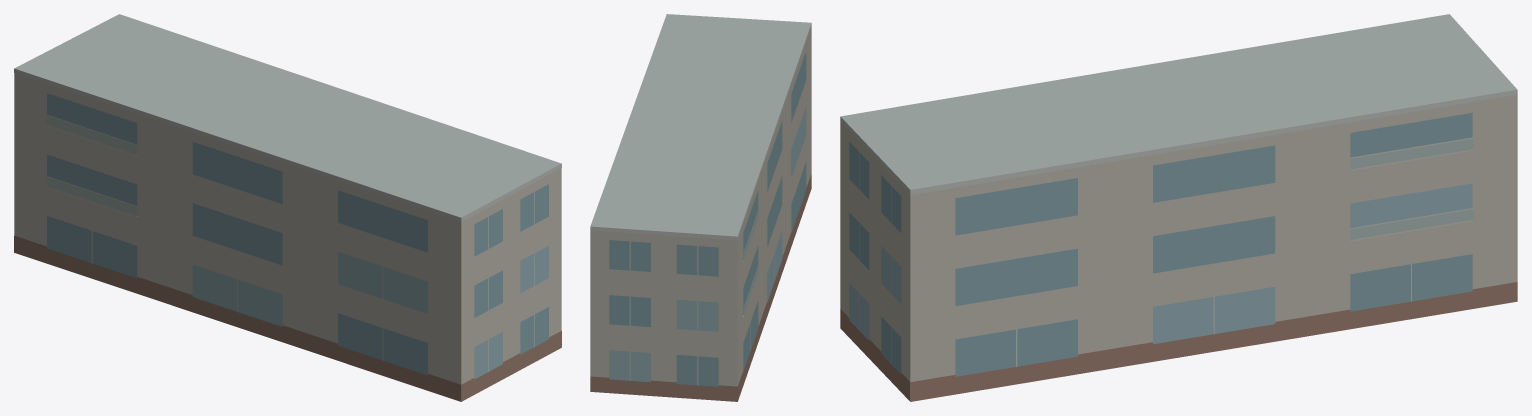
The model's file is survey-upis-32725891.glb.
3 renders of one model, left to right at view 1: azimuth 30°, elevation 25°; view 2: azimuth 150°, elevation 25°; view 3: azimuth 270°, elevation 25°, orthographic. The views are drawn at different scales.
Parts seen in each view (by area): view 1: survey-upis-32725891.tmp; view 2: survey-upis-32725891.tmp; view 3: survey-upis-32725891.tmp.
Part boxes in pixels (left/top/right/bottom): survey-upis-32725891.tmp: left=14, top=14, right=561, bottom=401; survey-upis-32725891.tmp: left=590, top=14, right=811, bottom=401; survey-upis-32725891.tmp: left=840, top=14, right=1517, bottom=401.
Size of the model in its own units: 18.35 by 10.3 by 29.84.
